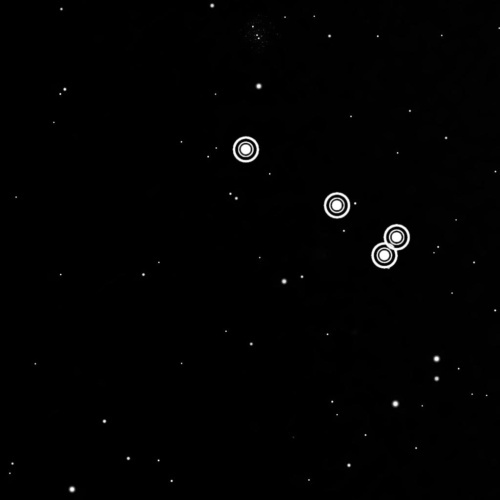sagitta: (226, 130, 416, 276)
